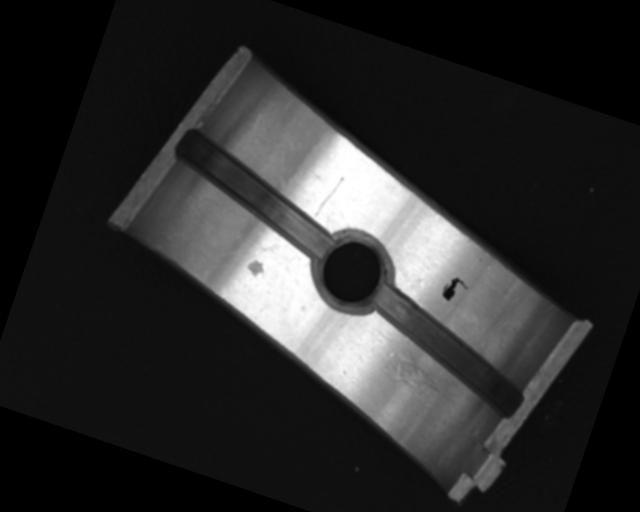blot: (439, 273, 472, 307)
bruise: (244, 256, 268, 281)
gap: (351, 283, 543, 420)
hole: (158, 126, 353, 264), (306, 222, 403, 318)
nick: (312, 171, 345, 224)
scratch: (363, 325, 471, 404)
